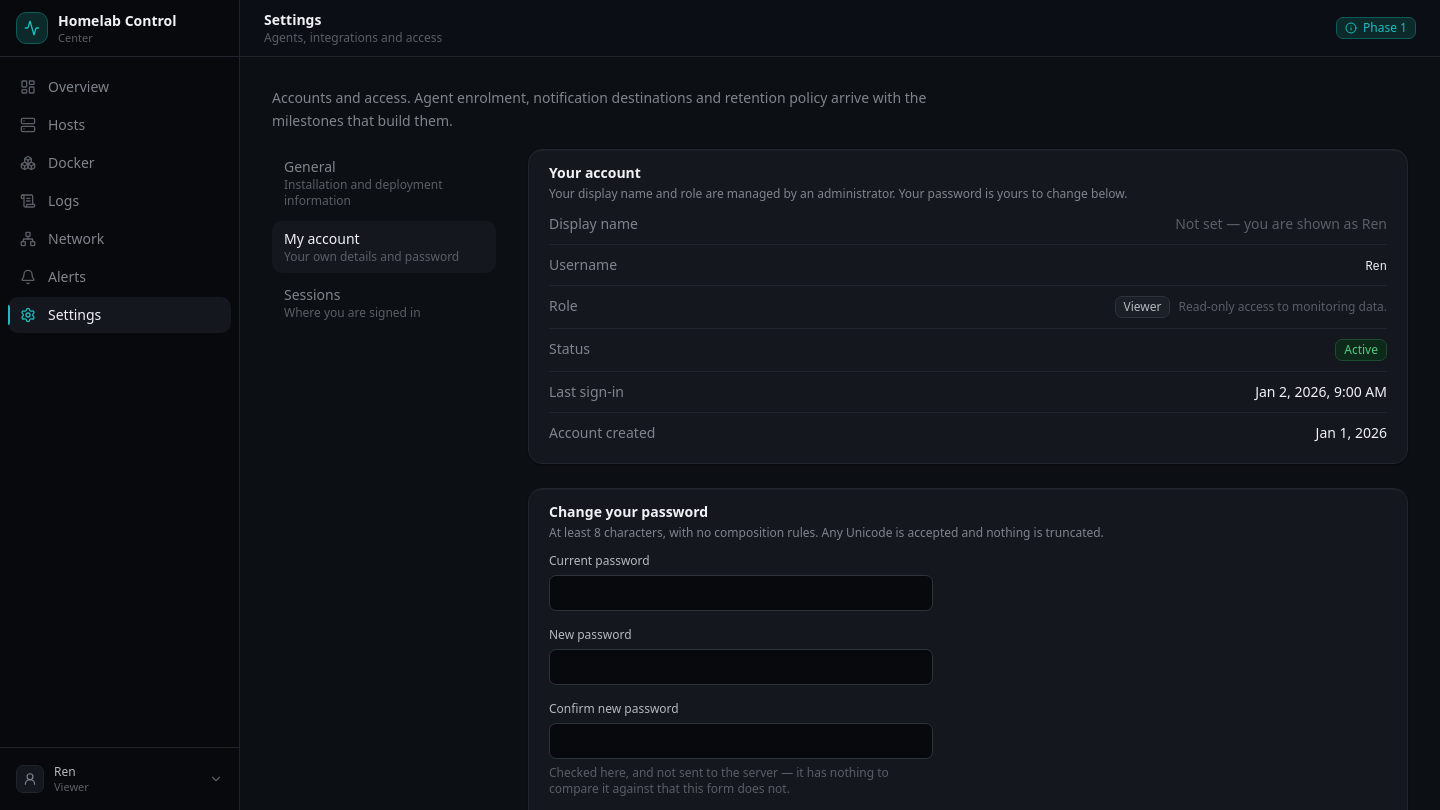
Test case: changing a password › says so plainly when there was nowhere else signed in
The width and height of the screenshot is (1440, 810).
Check: the heading "Your account" is shown, box 549,162 -> 641,182
Type "correct horse battery staple" into the password field labelled "Current password" at (741, 592), box 549,574 -> 933,610
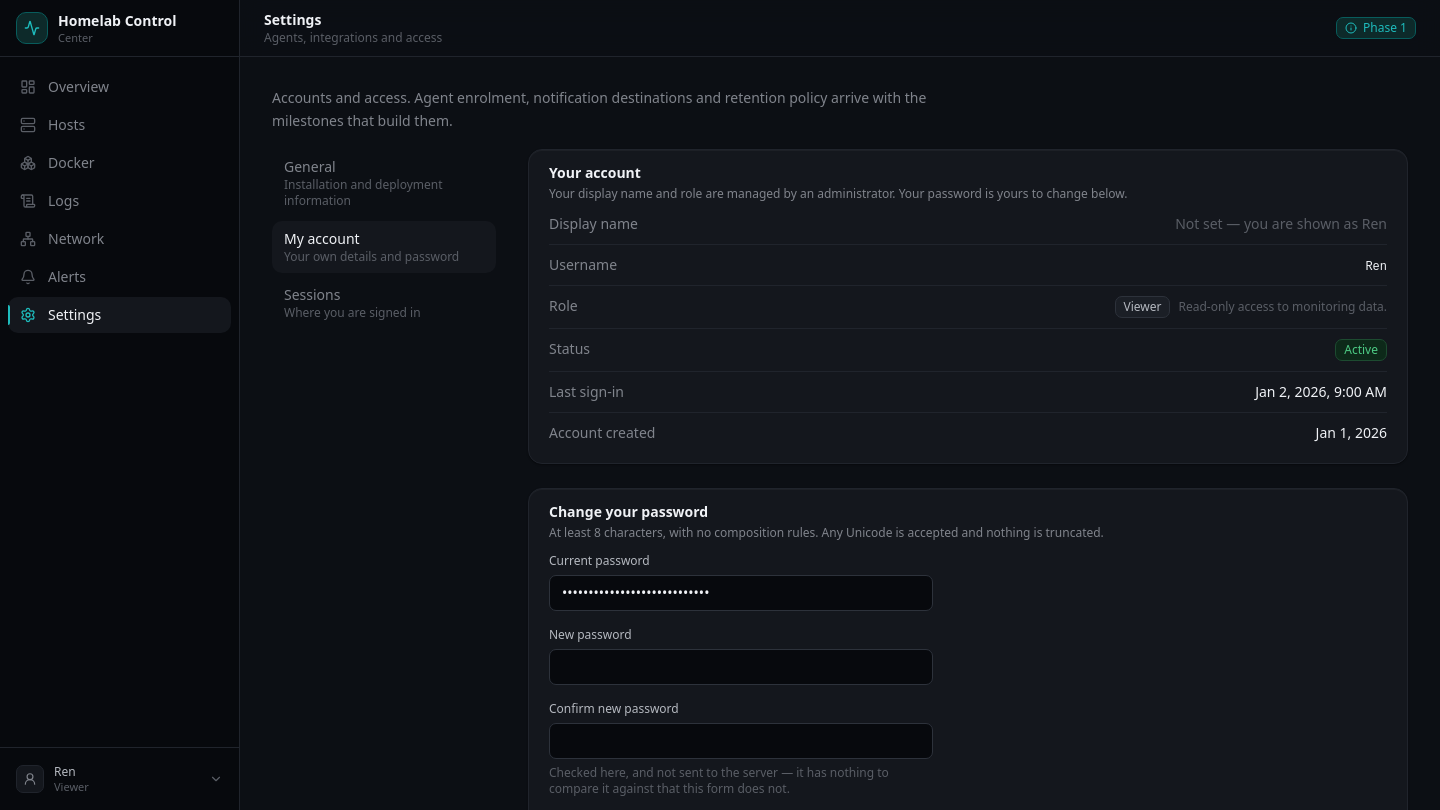
Type "a different sufficiently long passphrase" into the password field labelled "New password" at (741, 666), box 549,648 -> 933,684
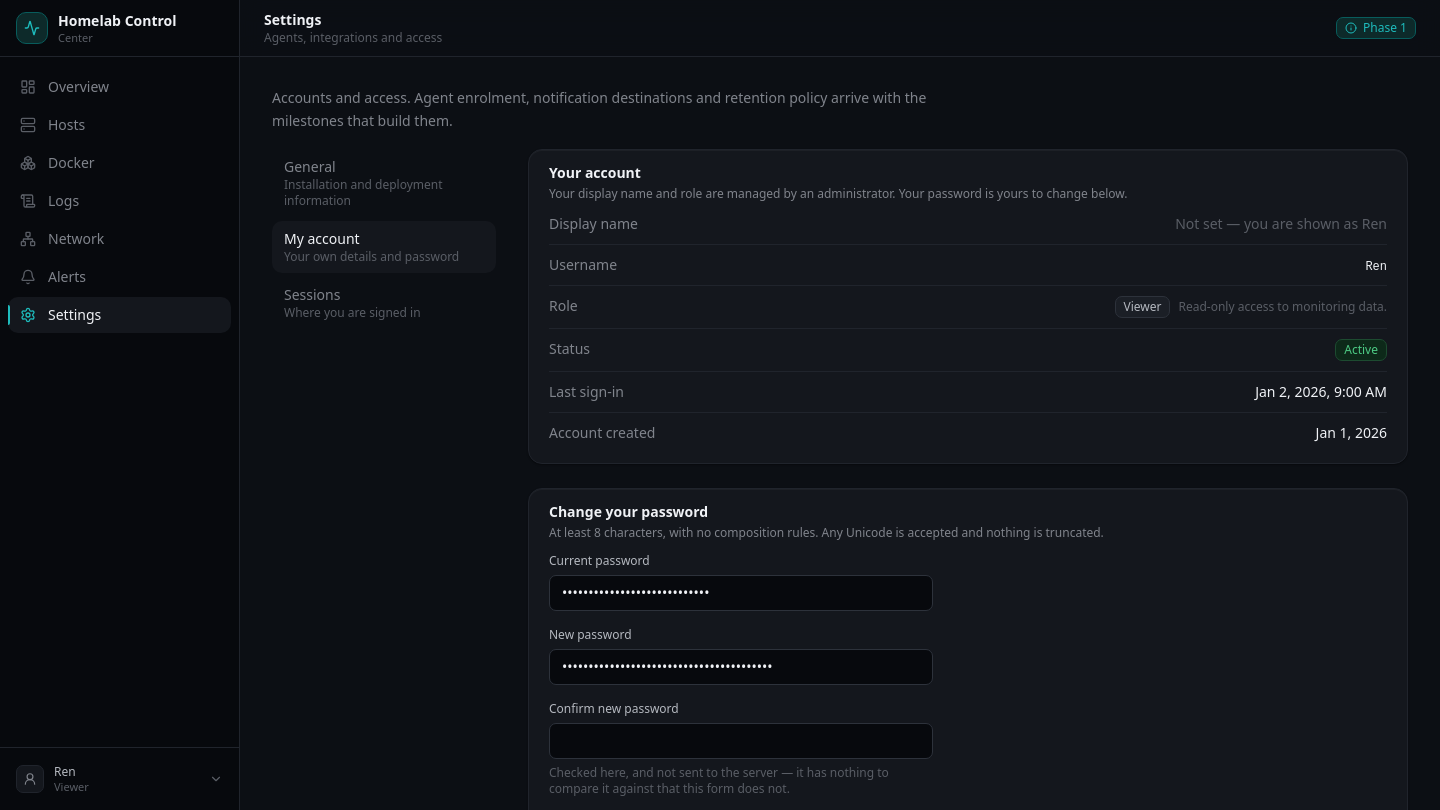
Type "a different sufficiently long passphrase" into the password field labelled "Confirm new password" at (741, 740), box 549,722 -> 933,758
(page scrolled)
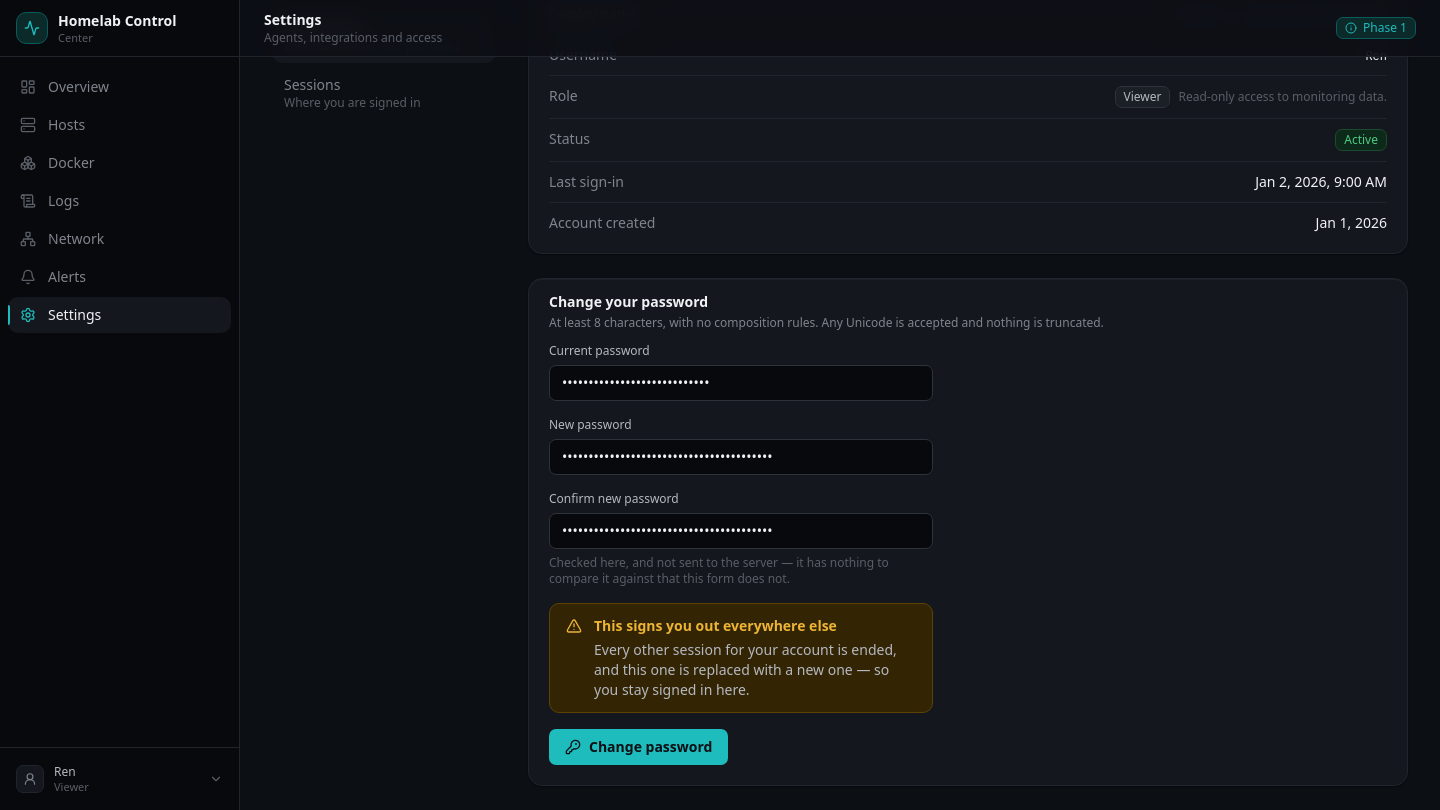
Click the button "Change password" at (639, 746), box 549,728 -> 728,764
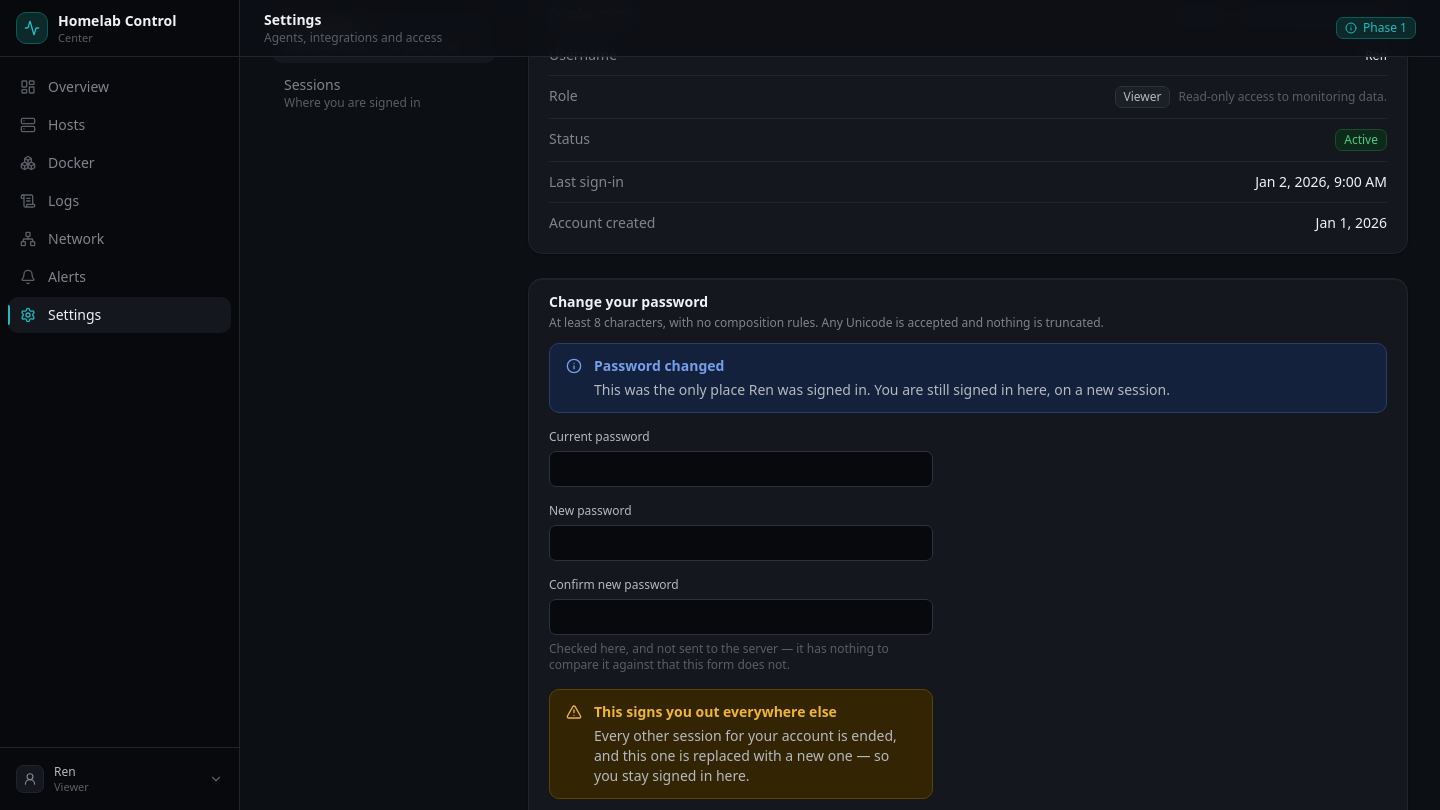
Check: the text "only place" is shown, box 594,380 -> 749,398
